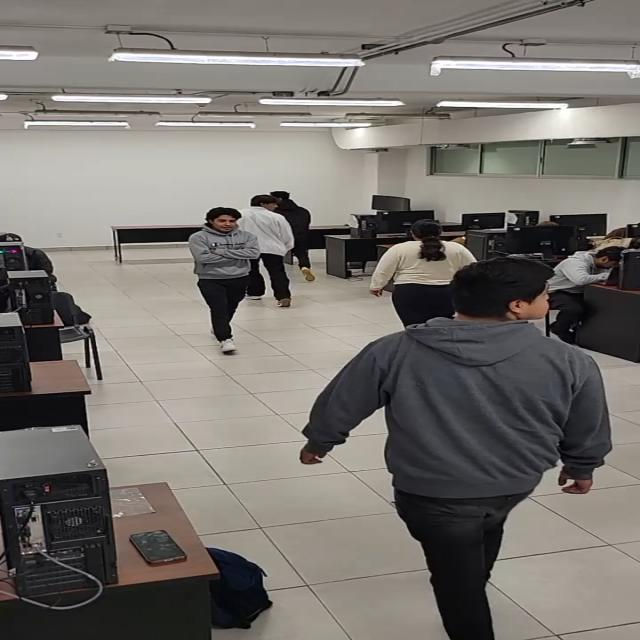Persona: (299, 261, 581, 625), (190, 205, 259, 358), (376, 216, 463, 315), (246, 192, 292, 301)
